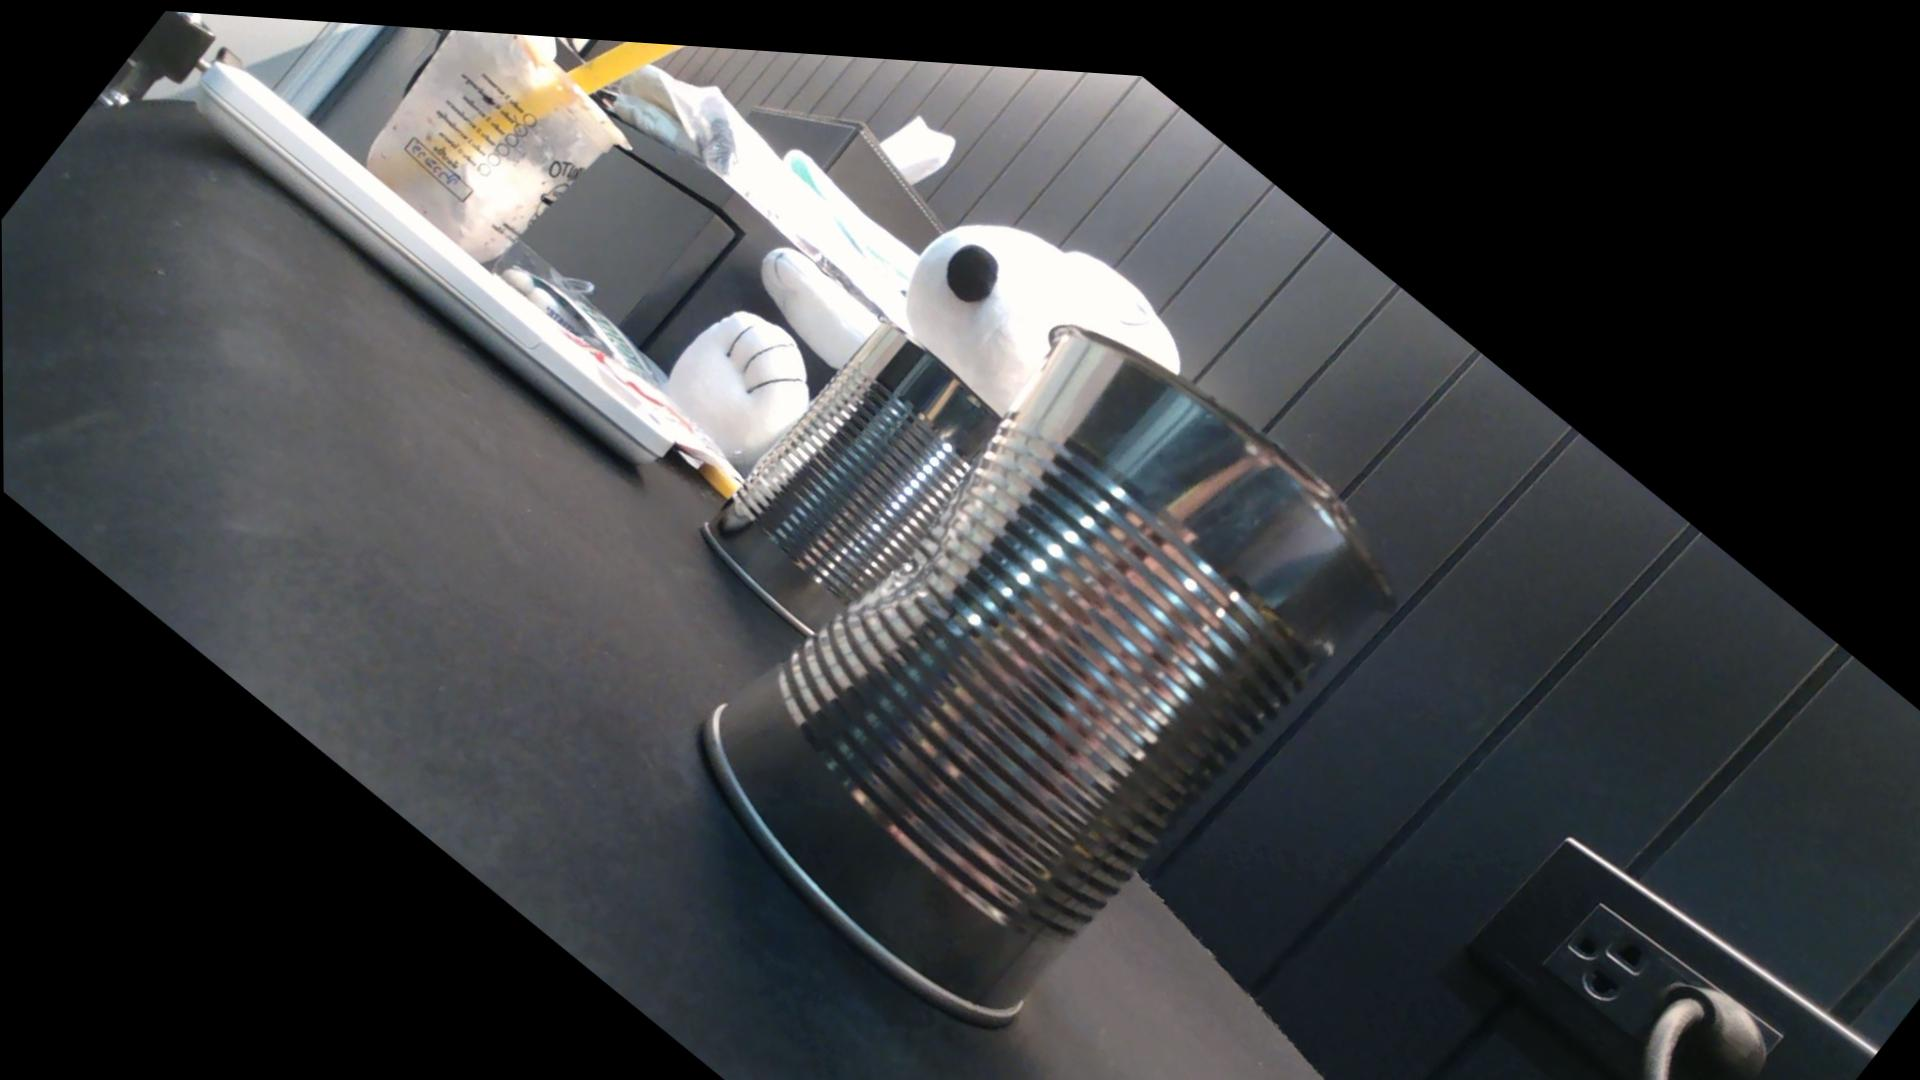metal: (684, 225, 1385, 1063)
